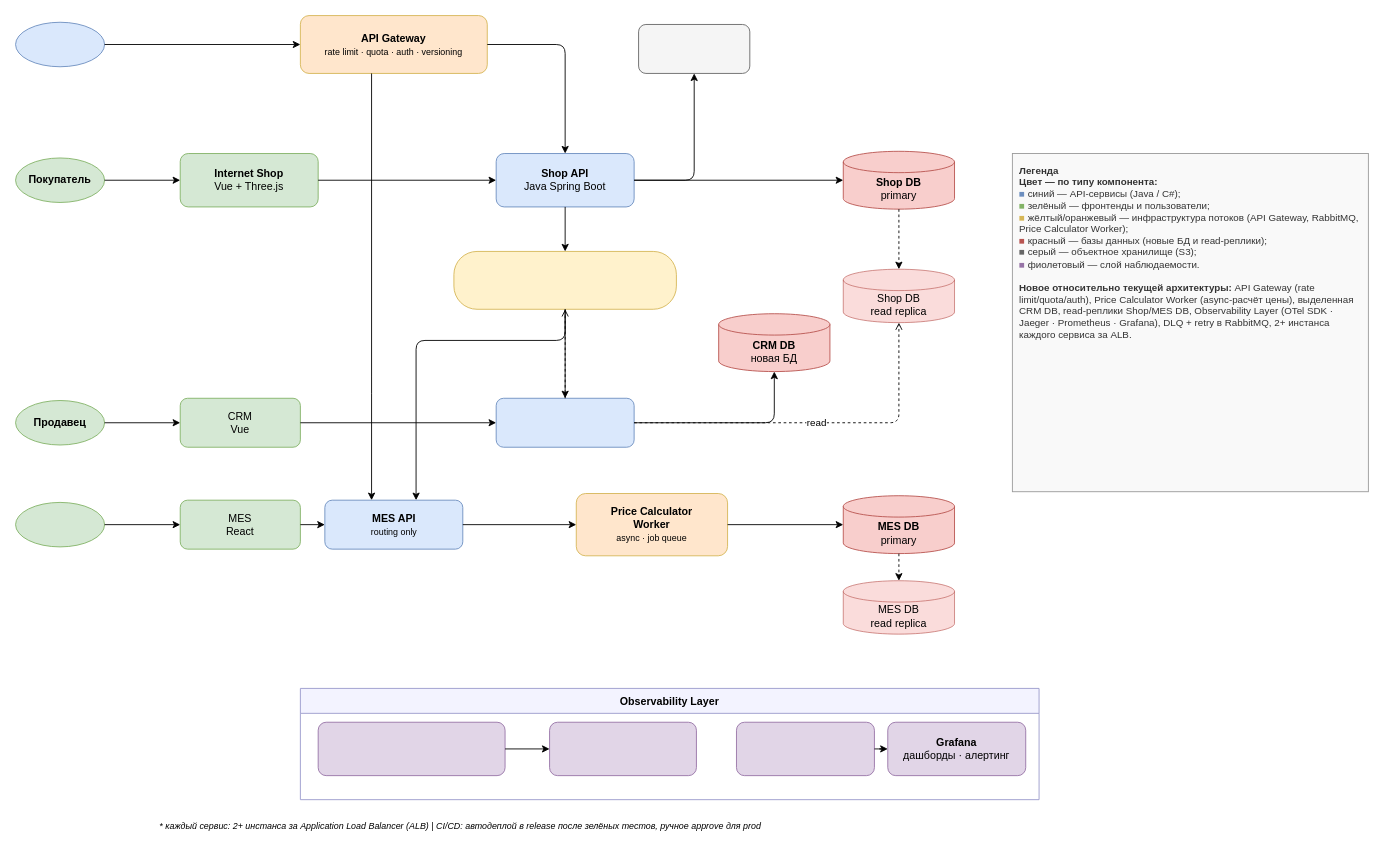
This 1384x855 diagram has some shape labels left out. Here are the shapes that lost their labels. From the top down, the centre of each, then its label:
the point at 60,44: Партнёры
the point at 694,48: S3 Storage 3D models
the point at 564,280: RabbitMQ DLQ · retry policy · мониторинг очереди
the point at 564,422: CRM API Java Spring Boot
the point at 60,524: Оператор
the point at 411,748: OpenTelemetry SDK Shop API · CRM API · MES API
the point at 622,748: Jaeger distributed tracing
the point at 805,748: Prometheus метрики · алерты
